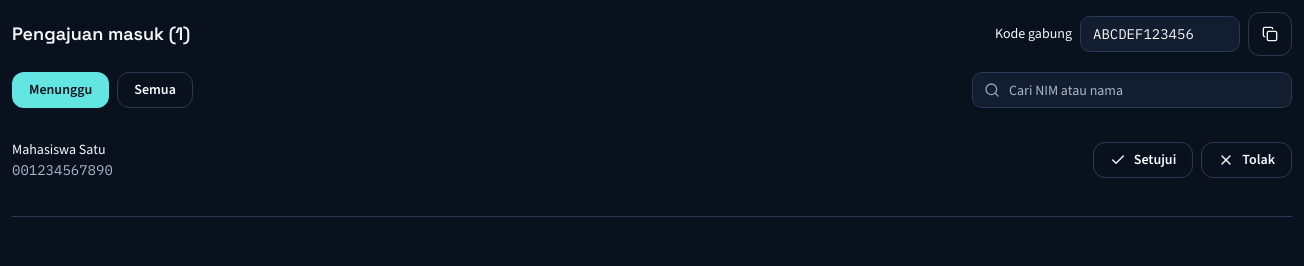
kotak pengajuan dosen › memperlihatkan NIM dan mengirim keputusan yang benar
What coordinates should you click on to do the following:
click the button "Setujui"
I would click on:
 (1143, 160)
Its box is [1093, 142, 1193, 178].
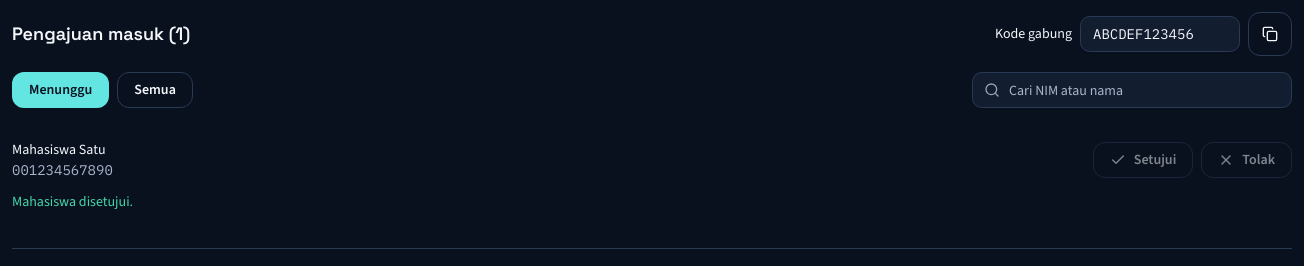
Now the message shows "disetujui", box [12, 192, 133, 211]
